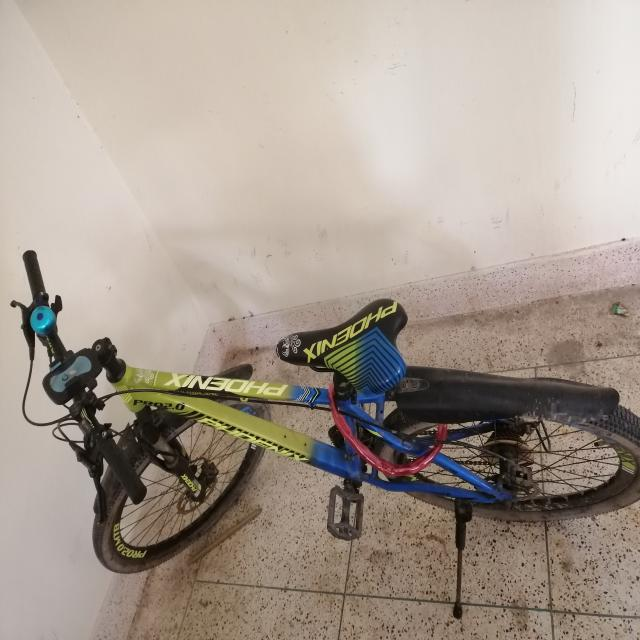Bicycle: (10, 208, 640, 631)
